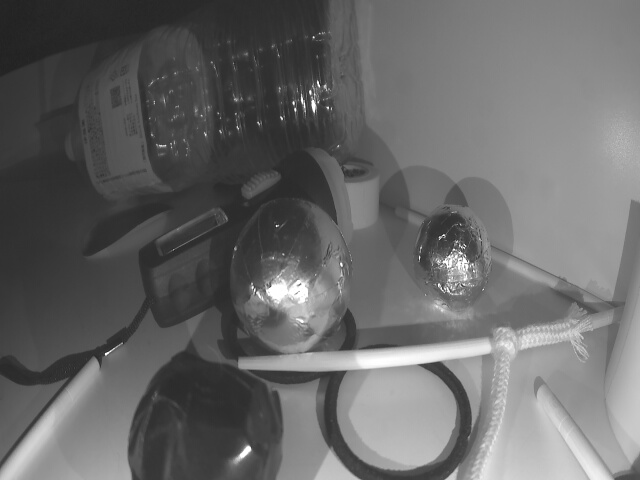Dead: (132, 358, 284, 480)
Live: (231, 199, 352, 355), (417, 194, 492, 315)
Point: (37, 103, 84, 150)
